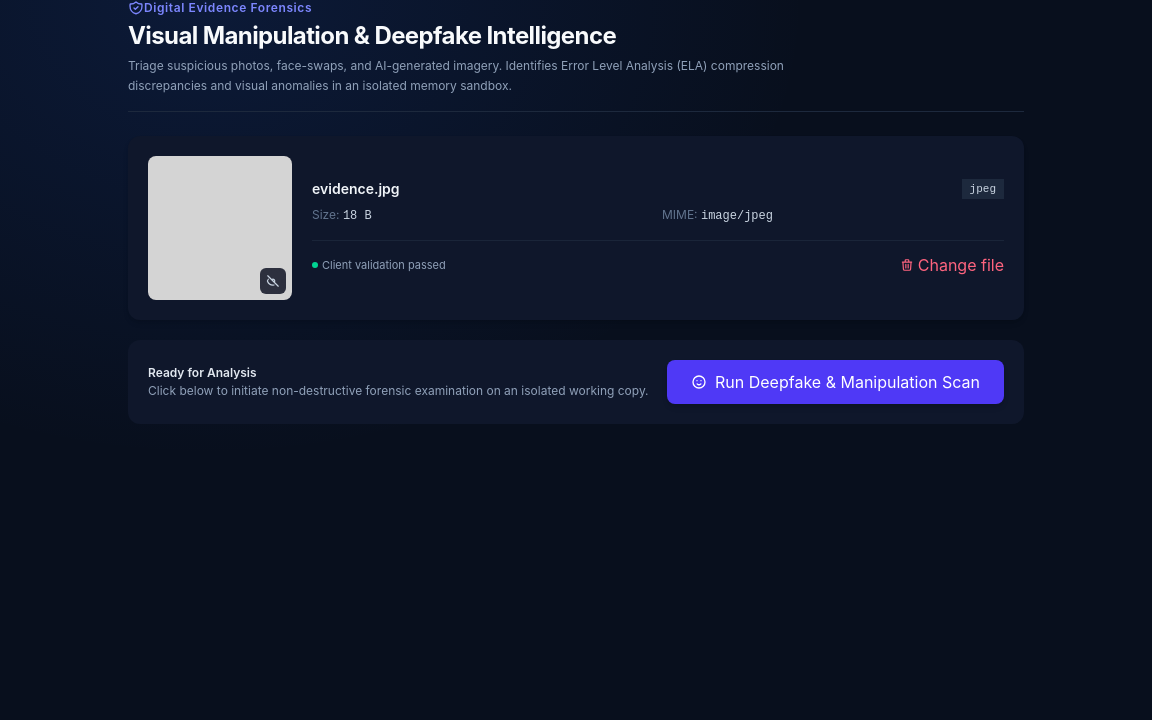
Test: SafeImageAnalysisWorkflow Component › advances through stages and displays structured results upon successful scan
Earlier steps of the test are not shown.
Step 1. Click the button "Run Deepfake & Manipulation Scan" → (836, 382), box [667,360,1004,404]
(page scrolled)
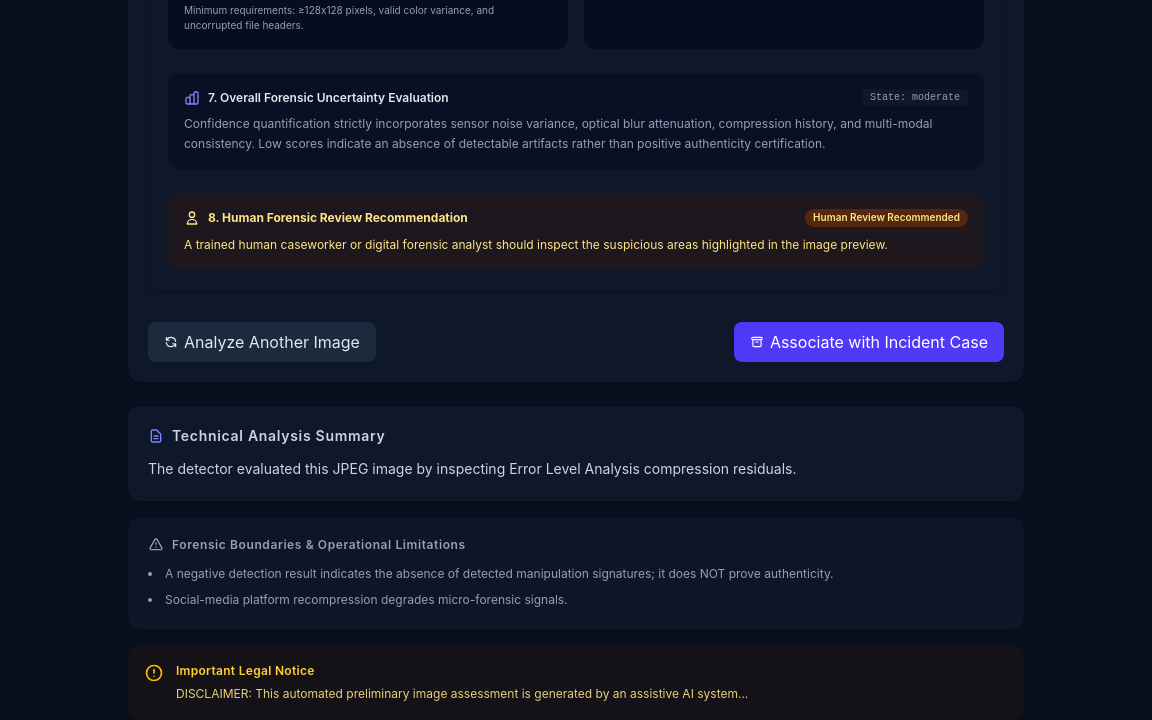
Result: the heading "Technical Analysis Summary" is shown at [148,427,385,444]
